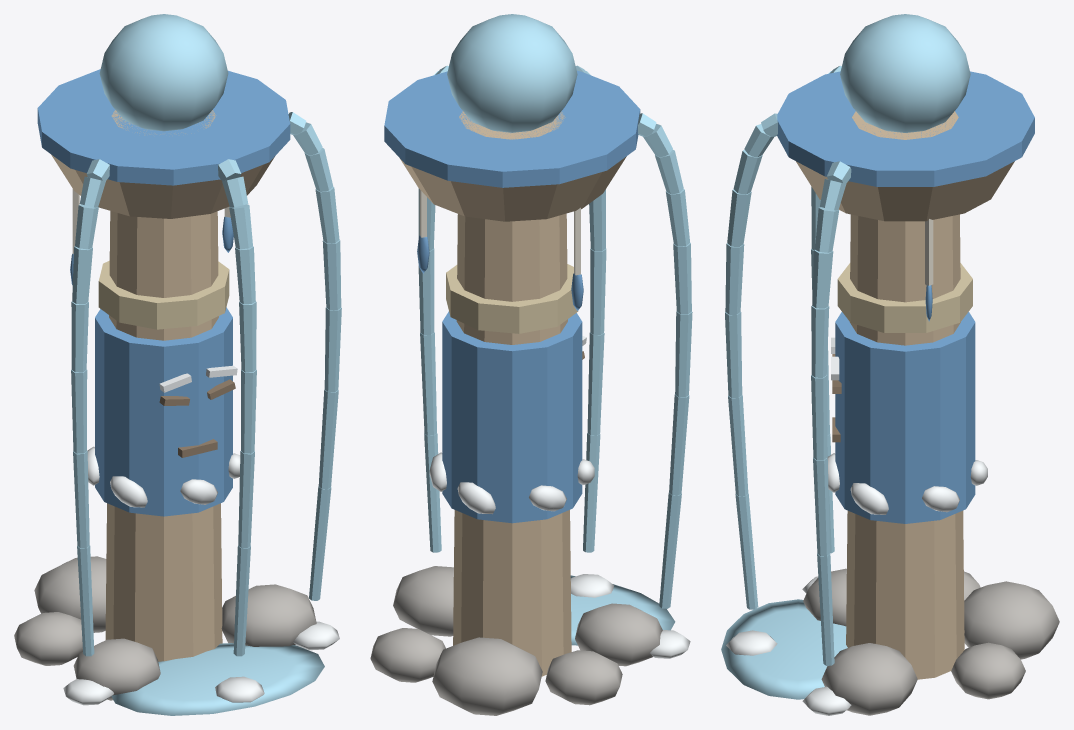
File: Totem_Healing.gltf
3 renders of one model, left to right at view 1: azimuth 30°, elevation 25°; view 2: azimuth 150°, elevation 25°; view 3: azimuth 270°, elevation 25°, orthographic.
Parts seen in each view (by area): view 1: Totem_Healing; view 2: Totem_Healing; view 3: Totem_Healing.
Boxes of the visible parts, x1,y1,x2,y2 form: Totem_Healing: (14, 14, 341, 715); Totem_Healing: (370, 14, 692, 715); Totem_Healing: (721, 14, 1059, 715).
Size of the model in its own units: 0.5352 by 1.2 by 0.57.
